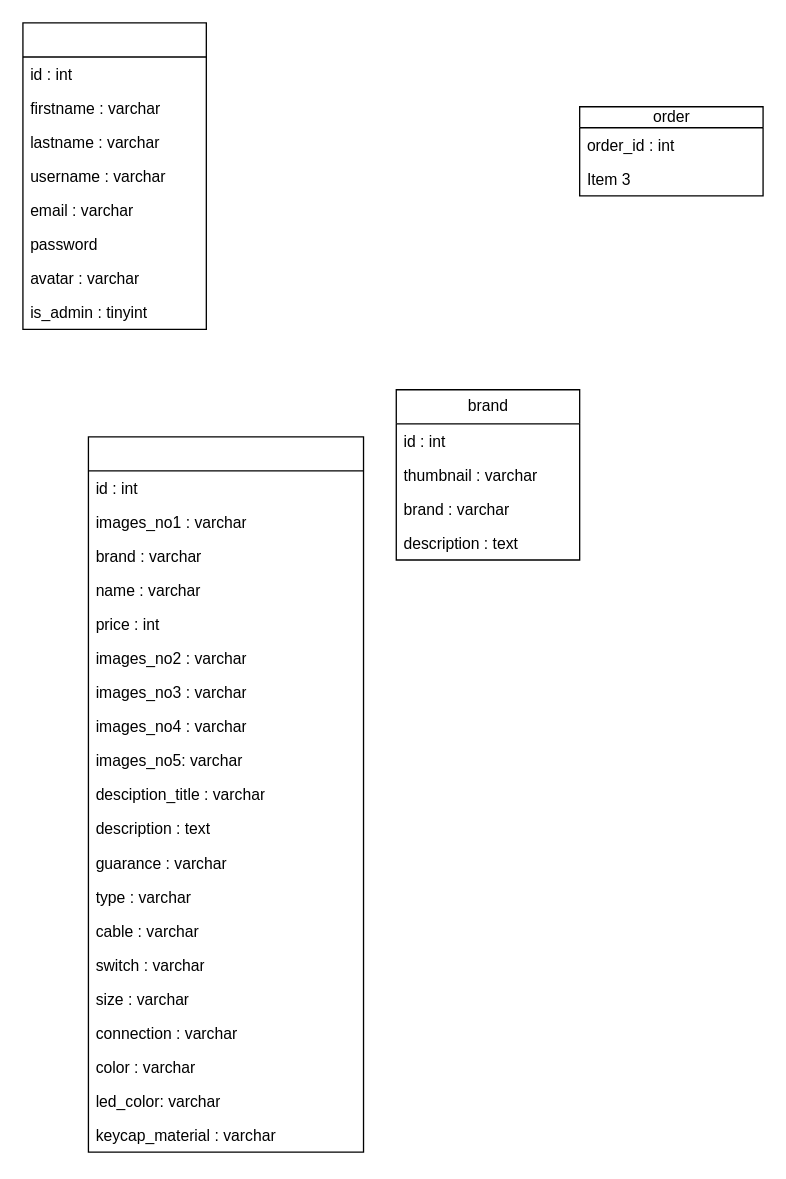
This 786x1179 diagram has some shape labels left out. The box of each missing label's shape, as (x1, y1, x2, y2) in pixels:
products: (87, 436, 364, 1152)
users: (22, 22, 206, 329)
